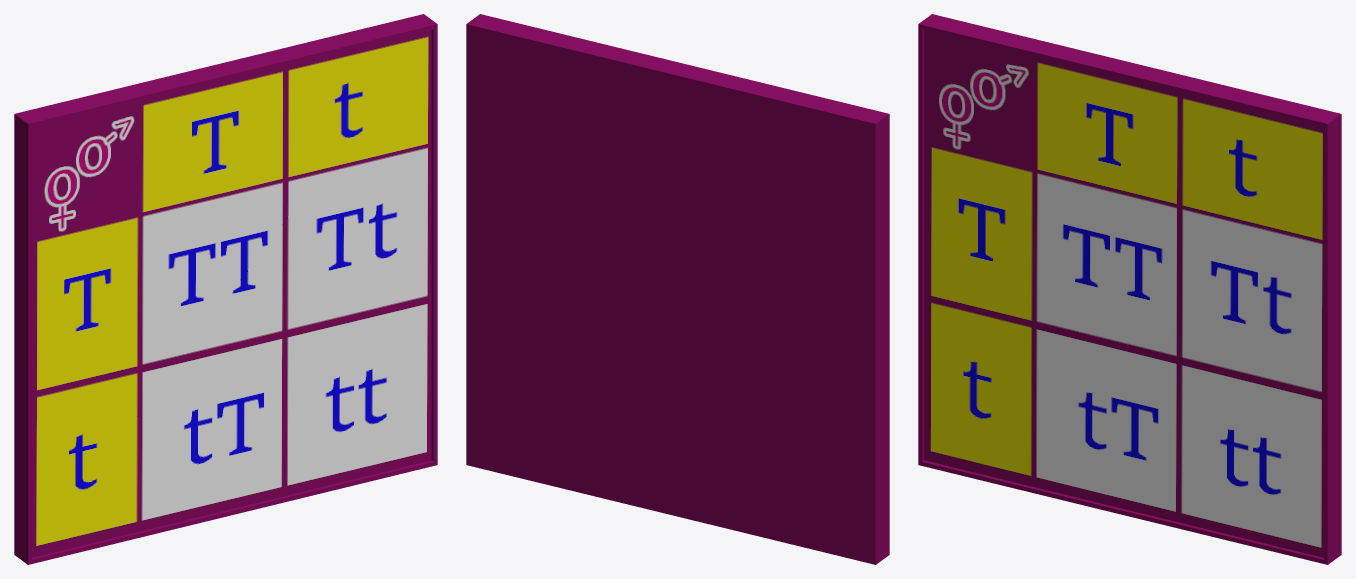
The model's file is TTTTTT.fbx.
3 renders of one model, left to right at view 1: azimuth 30°, elevation 25°; view 2: azimuth 150°, elevation 25°; view 3: azimuth 330°, elevation 25°, orthographic.
Visible parts, largest first — view 1: TTTTT; view 2: TTTTT; view 3: TTTTT.
Boxes of the visible parts, <box> form: TTTTT: <box>14,14,437,564</box>; TTTTT: <box>466,14,889,564</box>; TTTTT: <box>918,14,1341,564</box>.
Bounding box in the file's own units: 331 × 340 × 19.33.
1 material, 1 textured.
